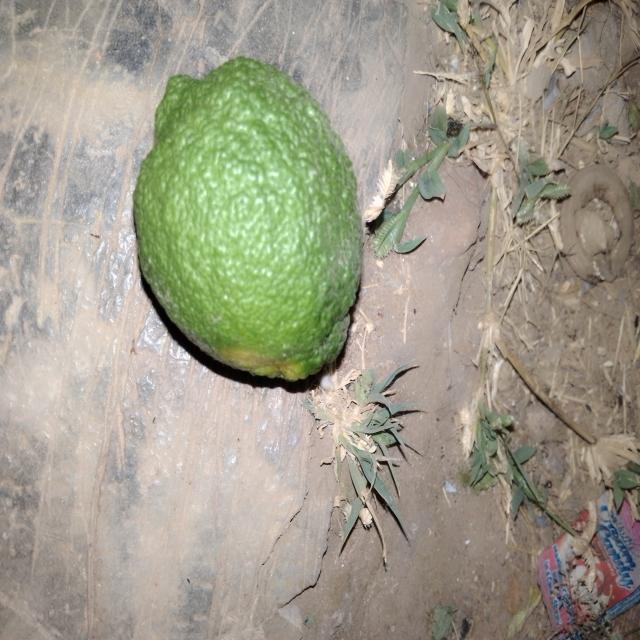Unripe: (115, 49, 371, 414)
